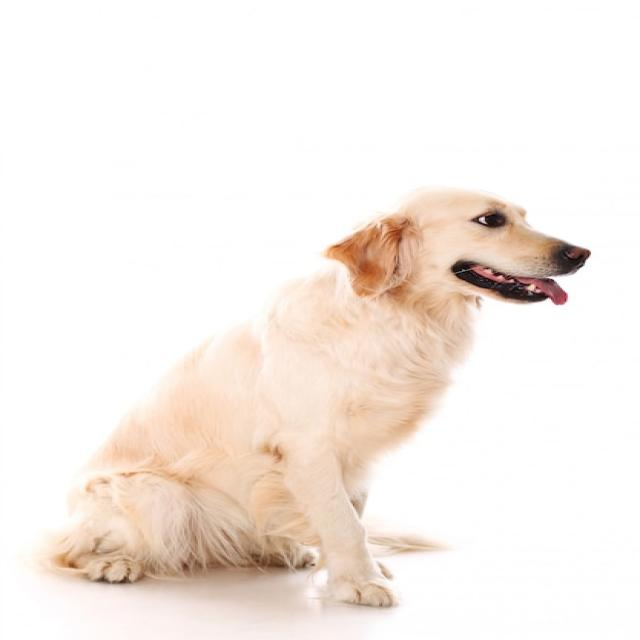Dog: (33, 188, 591, 608)
